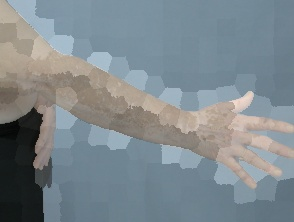vitiligo: (14, 2, 294, 201)
